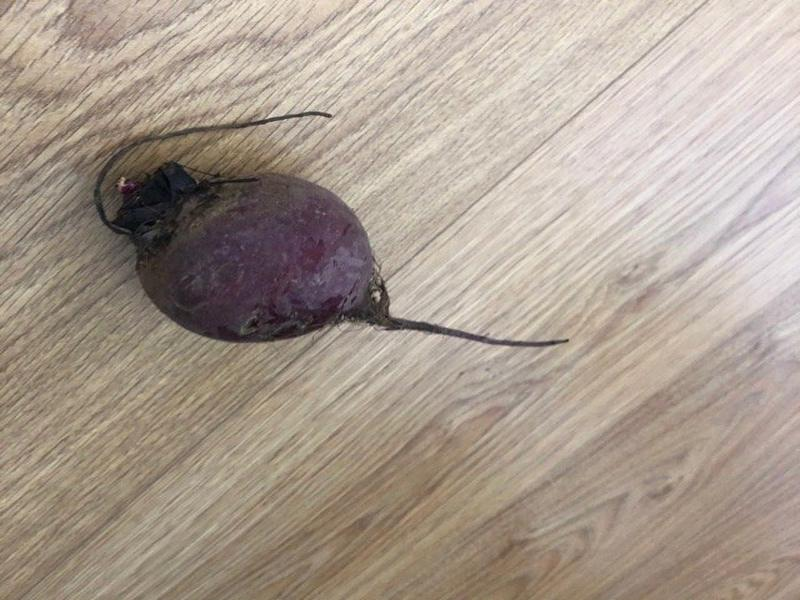Beet: (94, 112, 569, 348)
